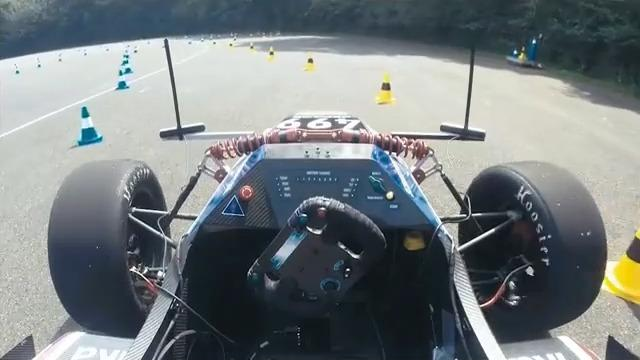blue_cone: (76, 106, 104, 147), (116, 69, 129, 91), (124, 59, 133, 75)
yellow_cone: (594, 207, 640, 310), (375, 73, 398, 106), (304, 51, 316, 71), (267, 47, 276, 61)
